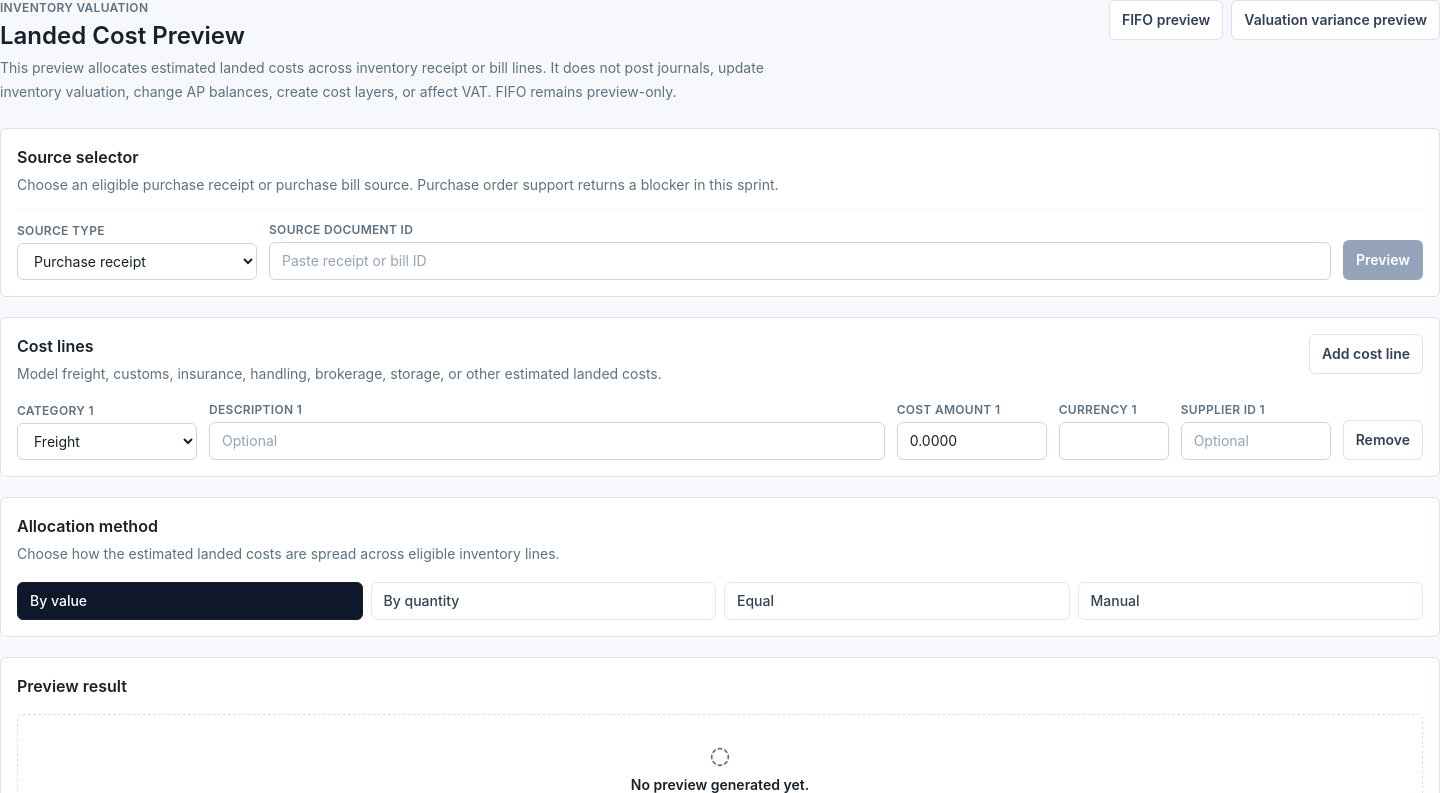
Scenario: LandedCostPreviewPage › shows manual allocation inputs after source lines are loaded
Type "receipt-1" into the field labelled "Source document ID" at (800, 261), box [269, 242, 1331, 280]
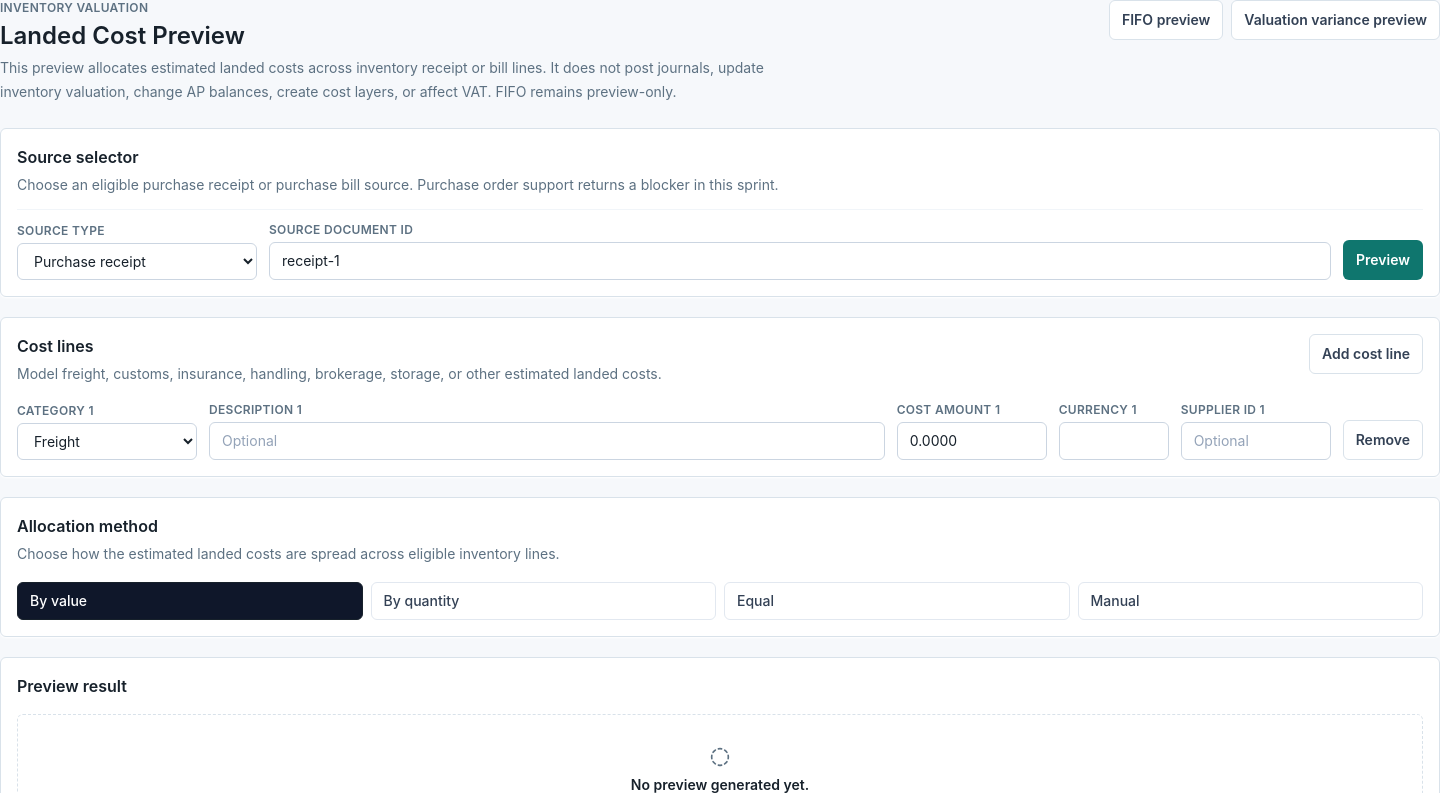
Click the button "Preview" at (1383, 260), box [1343, 240, 1423, 280]
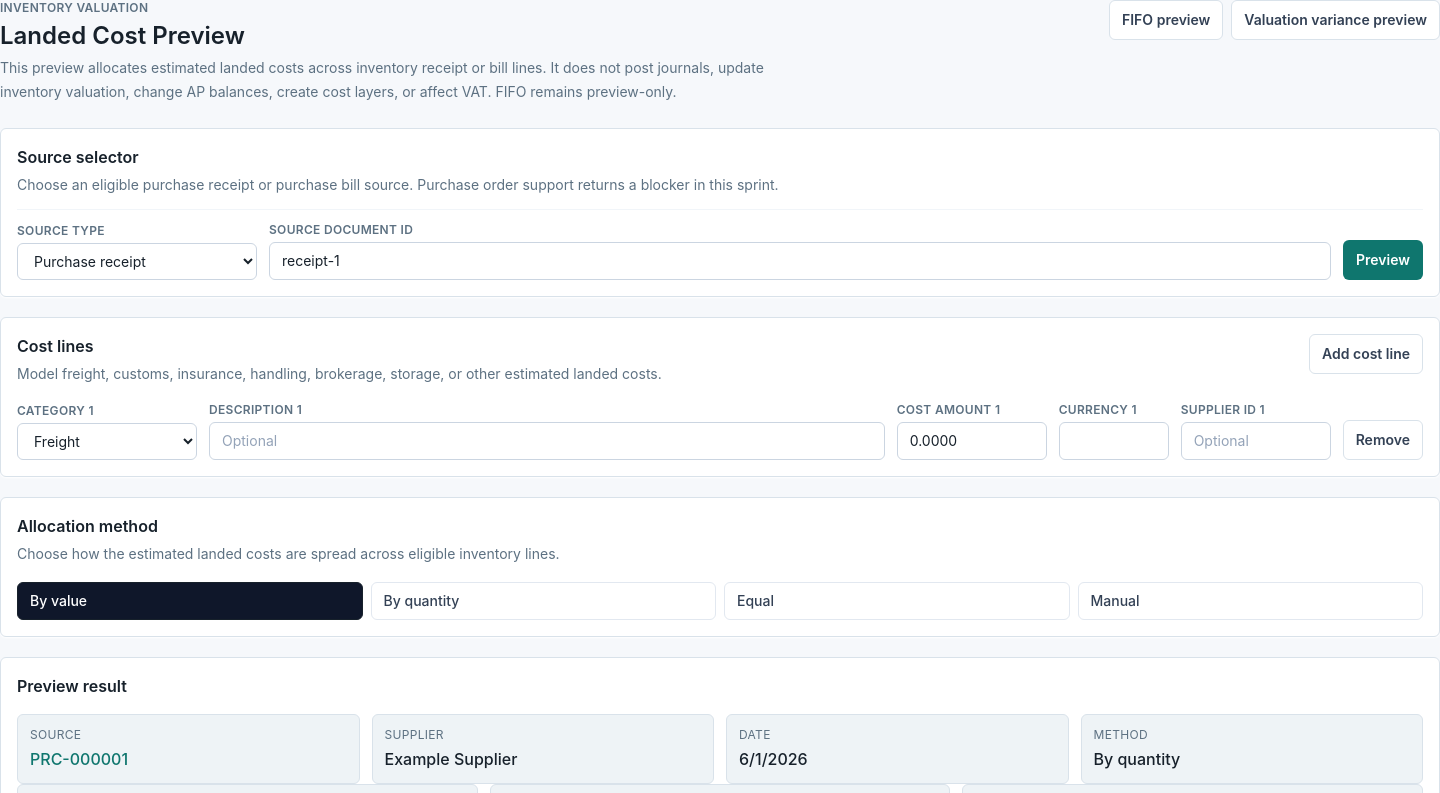
Click the radio button labelled "Manual" at (1115, 600), box [1078, 582, 1423, 620]
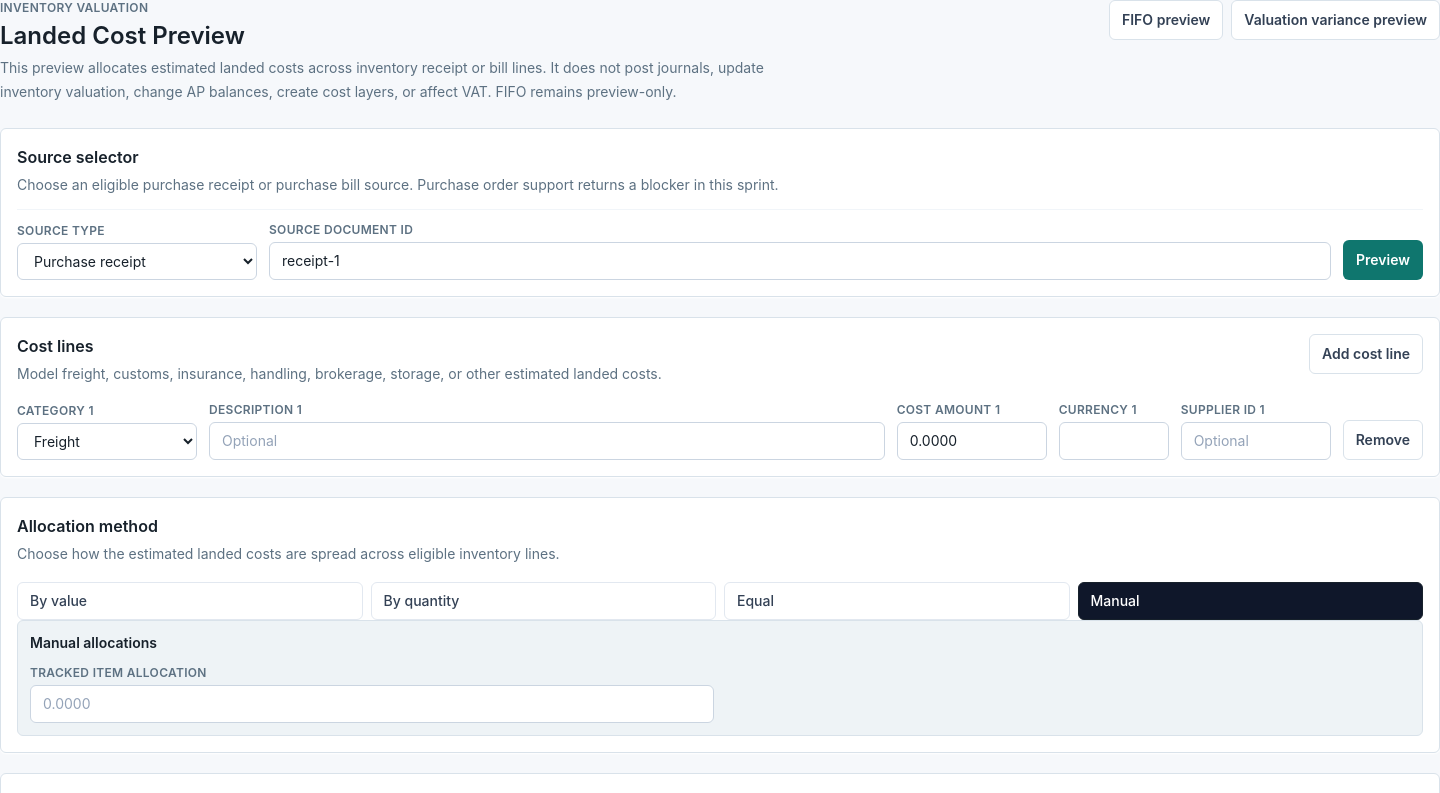
Check: the field labelled "Tracked Item allocation" is shown, box [30, 685, 714, 723]
